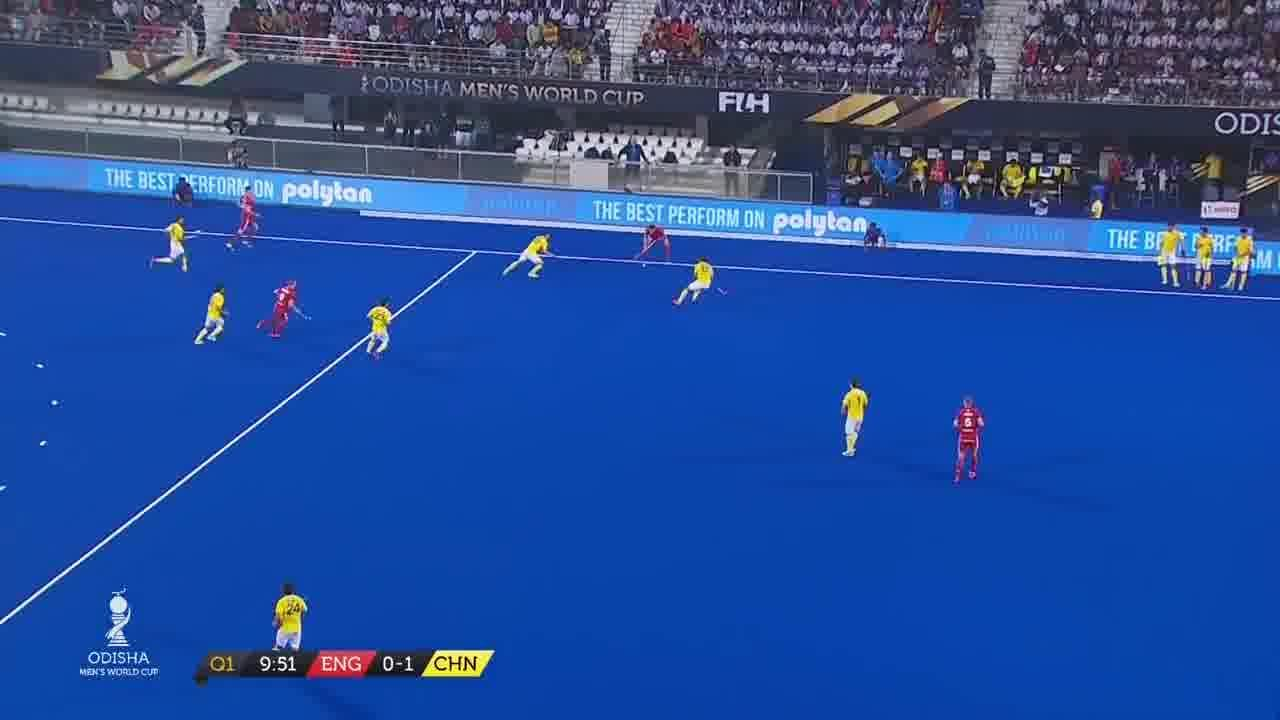ball: (642, 262, 652, 276)
